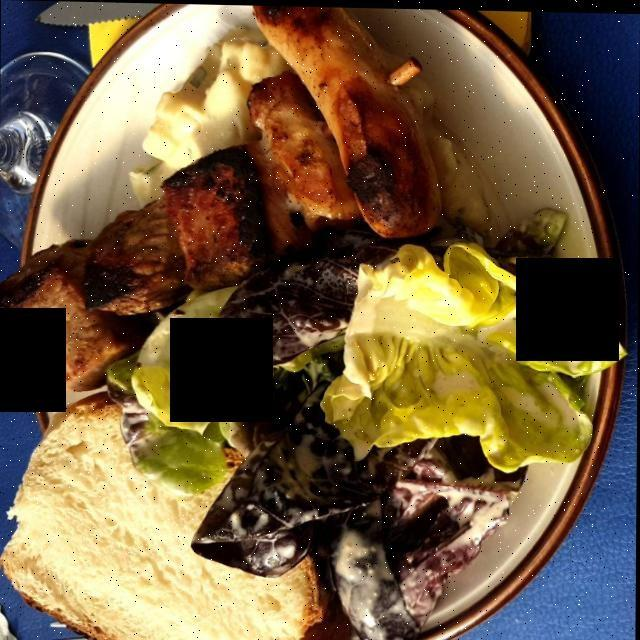beef: (10, 86, 345, 366)
bread: (10, 414, 326, 635)
potato-salad: (121, 26, 264, 199)
salad: (124, 182, 635, 640)
